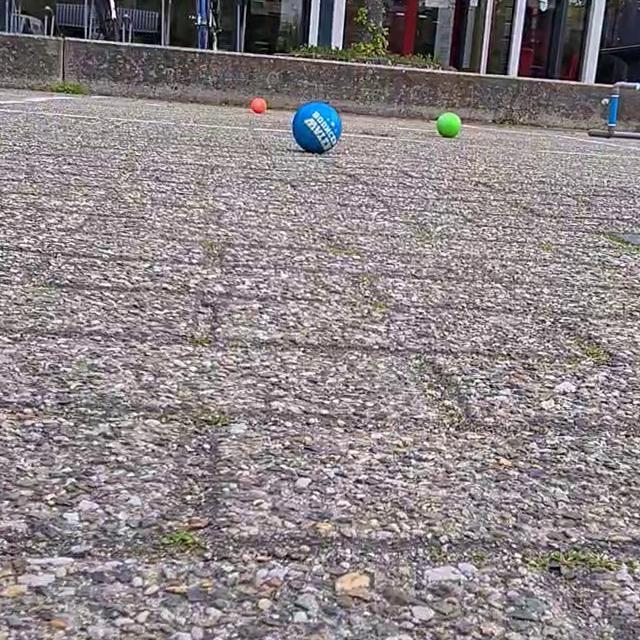ball: (435, 109, 462, 138)
